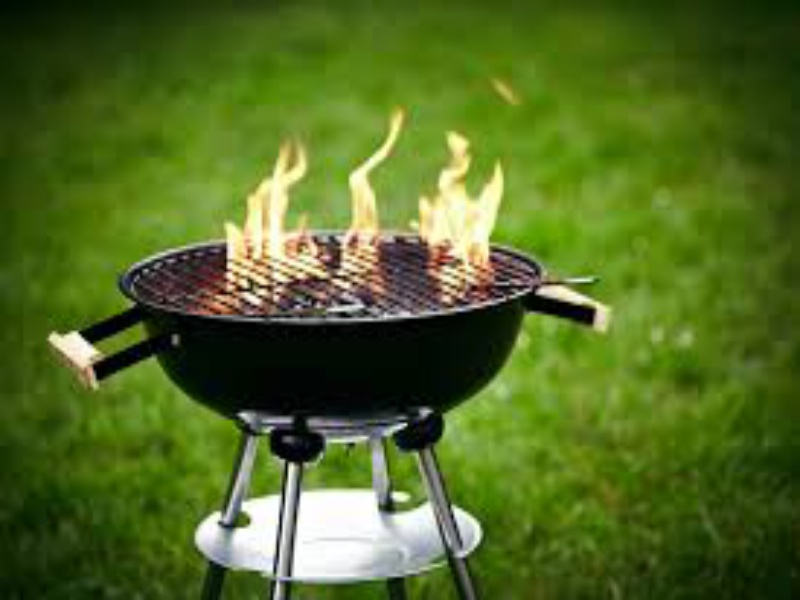fire: (222, 136, 318, 289), (418, 124, 507, 285), (339, 99, 407, 282)
